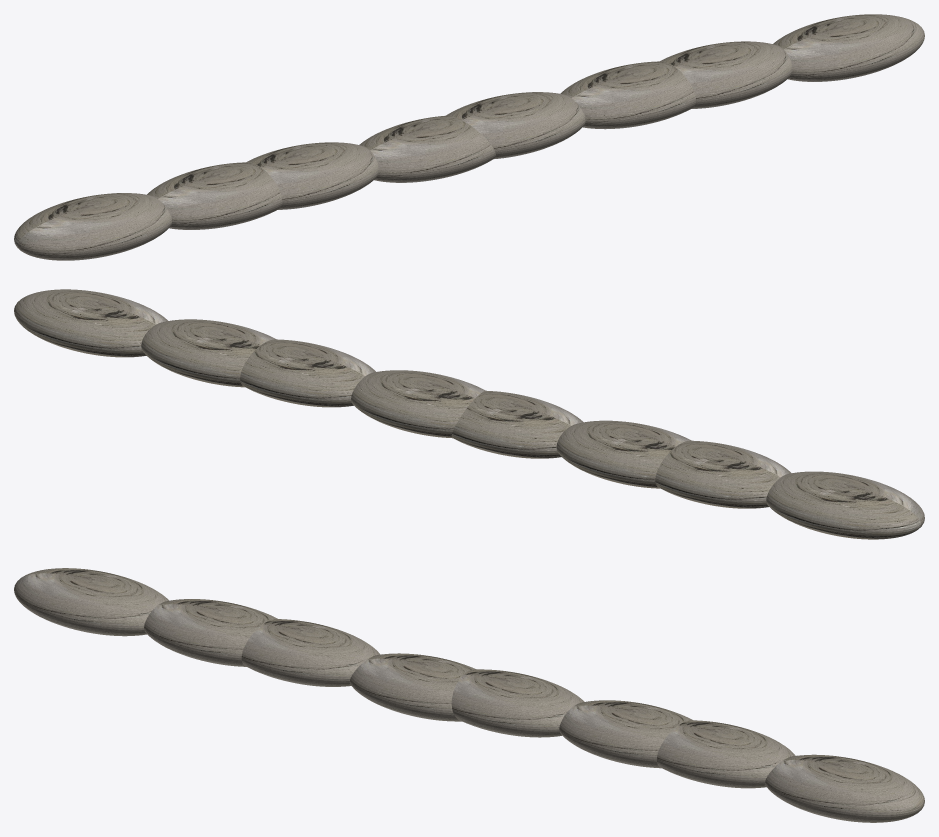
Rendered from manyrock.fbx.
3 renders of one model, top to bottom at view 1: azimuth 30°, elevation 25°; view 2: azimuth 150°, elevation 25°; view 3: azimuth 330°, elevation 25°, orthographic.
Parts seen in each view (by area): view 1: Sphere.003, Sphere.006, Sphere.004, Sphere, Sphere.002, Sphere.007, Sphere.005, Sphere.001; view 2: Sphere.003, Sphere.006, Sphere.004, Sphere, Sphere.007, Sphere.002, Sphere.005, Sphere.001; view 3: Sphere.006, Sphere.003, Sphere.005, Sphere.001, Sphere.007, Sphere, Sphere.004, Sphere.002.
Part boxes in pixels (x1,y1,x2,y2): Sphere.003: (14, 193, 171, 260); Sphere.006: (773, 14, 924, 81); Sphere.004: (560, 61, 695, 129); Sphere: (147, 162, 282, 229); Sphere.002: (359, 115, 495, 182); Sphere.007: (446, 92, 585, 159); Sphere.005: (660, 41, 792, 108); Sphere.001: (246, 142, 378, 209); Sphere.003: (766, 471, 924, 539); Sphere.006: (14, 289, 167, 357); Sphere.004: (240, 339, 375, 407); Sphere: (655, 440, 791, 508); Sphere.007: (351, 370, 485, 438); Sphere.002: (451, 390, 583, 458); Sphere.005: (141, 319, 275, 387); Sphere.001: (556, 420, 691, 488); Sphere.006: (765, 754, 924, 822); Sphere.003: (14, 568, 168, 636); Sphere.005: (656, 720, 795, 788); Sphere.001: (241, 619, 380, 686); Sphere.007: (451, 669, 584, 737); Sphere: (144, 599, 277, 666); Sphere.004: (559, 700, 692, 768); Sphere.002: (349, 653, 476, 721).
Bounding box in the file's own units: 1302 × 63.1 × 128.
1 material, 1 textured.
